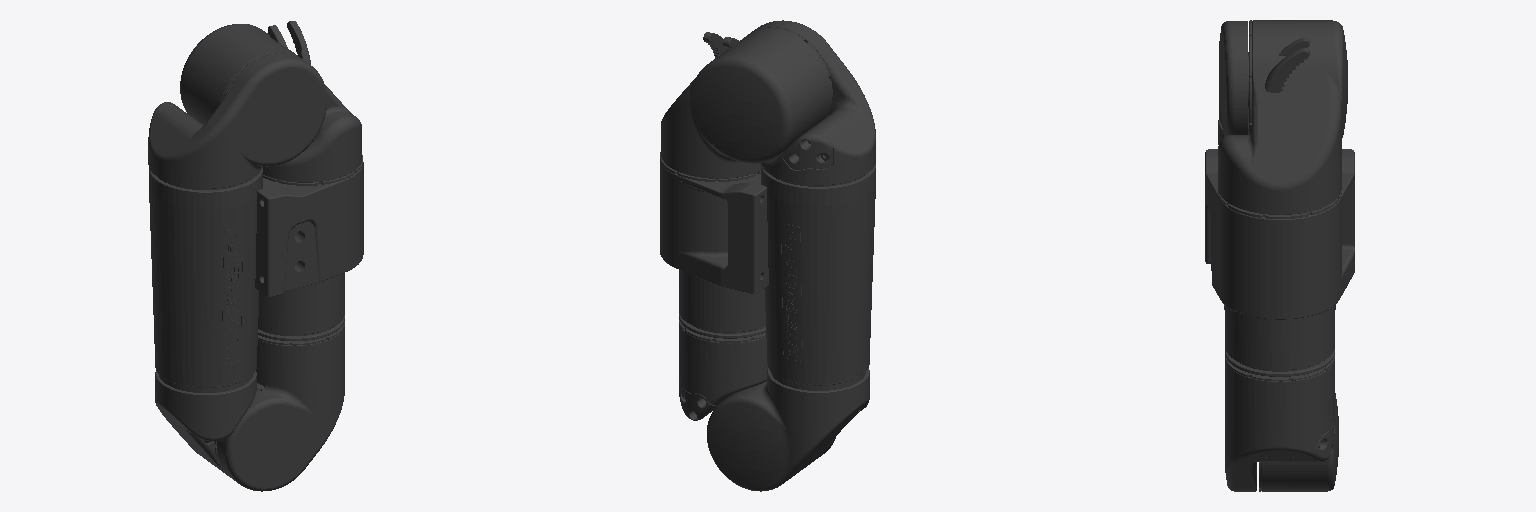
URDF robot description (bravo_5_example):
<?xml version="1.0" ?>
<!-- =================================================================================== -->
<!-- |    This document was autogenerated by xacro from bravo_5_example.urdf.xacro     | -->
<!-- |    EDITING THIS FILE BY HAND IS NOT RECOMMENDED                                 | -->
<!-- =================================================================================== -->
<robot name="bravo_5_example">
  <link name="base_link"/>
  <joint name="bravo_joint" type="fixed">
    <origin rpy="0 0 0" xyz="0 0 0"/>
    <parent link="base_link"/>
    <child link="bravo_base_link"/>
    <origin rpy="0 0 0" xyz="0 0 0"/>
  </joint>
  <material name="bravo_black">
    <color rgba="0.3 0.3 0.3 1"/>
  </material>
  <link name="bravo_base_link">
    <visual>
      <geometry>
        <mesh filename="package://bpl_bravo_description_mk2/meshes/1019 A.stl"/>
      </geometry>
      <material name="bravo_black"/>
    </visual>
    <collision>
      <geometry>
        <box size="0.0625 0.1112 0.088"/>
      </geometry>
      <origin rpy="0 0 0" xyz="0.03625 00 0.044"/>
    </collision>
    <collision>
      <geometry>
        <box size="0.050 0.080 0.060"/>
      </geometry>
      <origin rpy="0 0 0" xyz="0.025 -0.04556 0.03"/>
    </collision>
    <collision>
      <geometry>
        <cylinder length="0.0851" radius="0.046"/>
      </geometry>
      <origin rpy="0 0 0" xyz="0.0675 0 0.04255"/>
    </collision>
  </link>
  <joint name="bravo_axis_e" type="continuous">
    <parent link="bravo_base_link"/>
    <origin rpy="0 0 3.14159" xyz="0.0665 0 0.08"/>
    <axis xyz="0 0 -1"/>
    <child link="bravo_1019_end_link"/>
    <!-- <limit effort="0" velocity="0" lower="0.0" upper="6.3" /> -->
  </joint>
  <link name="bravo_1019_end_link">
    <visual>
      <geometry>
        <mesh filename="package://bpl_bravo_description_mk2/meshes/1019 B.stl"/>
      </geometry>
      <origin rpy="0 0 3.14159" xyz="0 0 0"/>
      <material name="bravo_black"/>
    </visual>
  </link>
  <joint name="bravo_d_base_joint" type="fixed">
    <parent link="bravo_1019_end_link"/>
    <origin rpy="0 0 0" xyz="0 0 0.0058"/>
    <child link="bravo_1013_base_link"/>
  </joint>
  <link name="bravo_1013_base_link">
    <visual>
      <geometry>
        <mesh filename="package://bpl_bravo_description_mk2/meshes/1013 A.stl"/>
      </geometry>
      <origin rpy="0 0 3.14159" xyz="0.0 00 0.0"/>
      <material name="bravo_black"/>
    </visual>
    <collision>
      <geometry>
        <cylinder length="0.0667" radius="0.046"/>
      </geometry>
      <origin rpy="0 0 0" xyz="0.0 0.0 0.03335"/>
    </collision>
    <collision>
      <geometry>
        <cylinder length="0.0738" radius="0.046"/>
      </geometry>
      <origin rpy="1.5707 0 0 " xyz="0.046 0.0149 0.0667"/>
    </collision>
  </link>
  <joint name="bravo_axis_d" type="revolute">
    <parent link="bravo_1013_base_link"/>
    <origin rpy="0 0 0" xyz="0.046 0 0.0667"/>
    <axis xyz="0 -1 0"/>
    <child link="bravo_1013_joint_link"/>
    <limit effort="0" lower="0.0" upper="3.2" velocity="0"/>
  </joint>
  <link name="bravo_1013_joint_link">
    <visual>
      <geometry>
        <mesh filename="package://bpl_bravo_description_mk2/meshes/1013 B.stl"/>
      </geometry>
      <material name="bravo_black"/>
      <origin rpy="0 0 3.14159" xyz="0.0 00 0.0"/>
    </visual>
    <collision>
      <geometry>
        <cylinder length="0.0228" radius="0.046"/>
      </geometry>
      <origin rpy="1.5707 0 0 " xyz="0 -0.0334 0"/>
    </collision>
    <collision>
      <geometry>
        <cylinder length="0.05094" radius="0.046"/>
      </geometry>
      <origin rpy="0 0 0" xyz="0.046 0 -0.02547"/>
    </collision>
  </link>
  <joint name="bravo_1013_end_joint" type="fixed">
    <parent link="bravo_1013_joint_link"/>
    <origin rpy="3.14159 0 3.14159" xyz="0.046 0 -0.05334"/>
    <child link="bravo_1013_end_link"/>
  </joint>
  <link name="bravo_1013_end_link"/>
  <joint name="bravo_c_base_joint" type="fixed">
    <parent link="bravo_1013_end_link"/>
    <origin rpy="0 0 0" xyz="0 0 0.182"/>
    <child link="bravo_1023_0_base_link"/>
  </joint>
  <link name="bravo_1023_0_base_link">
    <visual>
      <geometry>
        <mesh filename="package://bpl_bravo_description_mk2/meshes/RS2-1023-A.stl"/>
      </geometry>
      <material name="bravo_black"/>
    </visual>
    <collision>
      <geometry>
        <cylinder length="0.059" radius="0.0408"/>
      </geometry>
      <origin rpy="0 0 0" xyz="0 00 0.0295"/>
    </collision>
    <collision>
      <geometry>
        <cylinder length="0.0599" radius="0.0408"/>
      </geometry>
      <origin rpy="1.5707 0 0" xyz="0.0408 -0.01435 0.059"/>
    </collision>
  </link>
  <joint name="bravo_axis_c" type="revolute">
    <parent link="bravo_1023_0_base_link"/>
    <origin rpy="0 0 0" xyz="0.0408 0 0.059"/>
    <axis xyz="0 -1 0"/>
    <child link="bravo_1023_0_joint_link"/>
    <limit effort="0" lower="0.0" upper="3.2" velocity="0"/>
  </joint>
  <link name="bravo_1023_0_joint_link">
    <visual>
      <geometry>
        <mesh filename="package://bpl_bravo_description_mk2/meshes/RS2-1023-B.stl"/>
      </geometry>
      <material name="bravo_black"/>
    </visual>
    <collision>
      <geometry>
        <cylinder length="0.02335" radius="0.0408"/>
      </geometry>
      <origin rpy="1.5707 0 0" xyz="0 0.027275 0 "/>
    </collision>
    <collision>
      <geometry>
        <cylinder length="0.0851" radius="0.0408"/>
      </geometry>
      <origin rpy="0 0 0" xyz="0.0408 0 -0.0473"/>
    </collision>
  </link>
  <joint name="bravo_1023_0_end_joint" type="fixed">
    <parent link="bravo_1023_0_joint_link"/>
    <origin rpy="3.14159 0 0" xyz="0.0408 0 -0.08705"/>
    <child link="bravo_1023_0_end_link"/>
  </joint>
  <link name="bravo_1023_0_end_link"/>
  <joint name="bravo_b_base_joint" type="fixed">
    <parent link="bravo_1023_0_end_link"/>
    <origin rpy="0 0 0" xyz="0 0 0"/>
    <child link="bravo_1023_1_base_link"/>
  </joint>
  <link name="bravo_1023_1_base_link">
        </link>
  <joint name="bravo_axis_b" type="continuous">
    <parent link="bravo_1023_1_base_link"/>
    <origin rpy="0 0 3.14159" xyz="0 0 0"/>
    <axis xyz="0 0 -1"/>
    <child link="bravo_1023_1_joint_link"/>
    <!--            <limit effort="0" velocity="0" lower="0.0" upper="0.0" />-->
  </joint>
  <link name="bravo_1023_1_joint_link">
    <visual>
      <geometry>
        <mesh filename="package://bpl_bravo_description_mk2/meshes/RS2-1023-C.stl"/>
      </geometry>
      <material name="bravo_black"/>
    </visual>
    <collision>
      <geometry>
        <cylinder length="0.003" radius="0.0408"/>
      </geometry>
      <origin rpy="0 0 0" xyz="0 0 0.0"/>
    </collision>
  </link>
  <joint name="bravo_1023_1_end_joint" type="fixed">
    <parent link="bravo_1023_1_joint_link"/>
    <origin rpy="0 0 0" xyz="0 0 0.0054"/>
    <child link="bravo_1023_1_end_link"/>
  </joint>
  <link name="bravo_1023_1_end_link"/>
  <joint name="bravo_a_base_joint" type="fixed">
    <parent link="bravo_1023_1_end_link"/>
    <origin rpy="0 0 0" xyz="0 0 0"/>
    <child link="bravo_1038_base_link"/>
  </joint>
  <link name="bravo_1038_base_link">
    <visual>
      <geometry>
        <mesh filename="package://bpl_bravo_description_mk2/meshes/1038.stl"/>
      </geometry>
      <material name="bravo_black"/>
    </visual>
    <collision>
      <geometry>
        <cylinder length="0.12535" radius="0.0408"/>
      </geometry>
      <origin rpy="0 0 0" xyz="0 0 0.06"/>
    </collision>
  </link>
  <joint name="bravo_1038_end_joint" type="fixed">
    <parent link="bravo_1038_base_link"/>
    <origin rpy="0 -1.5707 0" xyz="0 0 0.12535"/>
    <child link="bravo_1038_end_link"/>
  </joint>
  <link name="bravo_1038_end_link"/>
  <joint name="bravo_jaws_joint" type="fixed">
    <origin rpy="0 0 0" xyz=" 0 0 0.0"/>
    <parent link="bravo_1038_end_link"/>
    <child link="bravo_jaws_base_link"/>
  </joint>
  <link name="bravo_jaws_base_link">
    <!--        <visual>-->
    <!--            <geometry>-->
    <!--                <mesh filename="package://bpl_bravo_description/meshes/end_effectors/RS2-257.stl"/>-->
    <!--            </geometry>-->
    <!--            <material name="bravo_jaws_black"/>-->
    <!--            </visual>-->
  </link>
  <link name="bravo_push_rod"/>
  <joint name="bravo_axis_a" type="prismatic">
    <origin rpy="0 0 0" xyz="0 0 0.009"/>
    <parent link="bravo_jaws_base_link"/>
    <child link="bravo_push_rod"/>
    <axis xyz="0 0 1"/>
    <limit effort="10" lower="0" upper="0.01" velocity="10"/>
  </joint>
  <link name="bravo_1030_base_link">
    <visual>
      <geometry>
        <mesh filename="package://bpl_bravo_description_mk2/meshes/1030.stl"/>
      </geometry>
      <material name="bravo_black"/>
    </visual>
    <collision>
      <geometry>
        <cylinder length="0.03033333" radius="0.046"/>
      </geometry>
      <origin rpy="0 0 0" xyz="0 0 0.01516666"/>
    </collision>
    <collision>
      <geometry>
        <cylinder length="0.03033333" radius="0.045"/>
      </geometry>
      <origin rpy="0 0 0" xyz="0 0 0.0455"/>
    </collision>
    <collision>
      <geometry>
        <cylinder length="0.03033333" radius="0.044"/>
      </geometry>
      <origin rpy="0 0 0" xyz="0 0 0.075833333"/>
    </collision>
    <collision>
      <geometry>
        <cylinder length="0.03033333" radius="0.043"/>
      </geometry>
      <origin rpy="0 0 0" xyz="0 0 0.1061666666"/>
    </collision>
    <collision>
      <geometry>
        <cylinder length="0.03033333" radius="0.042"/>
      </geometry>
      <origin rpy="0 0 0" xyz="0 0 0.1365"/>
    </collision>
    <collision>
      <geometry>
        <cylinder length="0.03033333" radius="0.041"/>
      </geometry>
      <origin rpy="0 0 0" xyz="0 0 0.1668333"/>
    </collision>
  </link>
  <joint name="bravo_1030_base_joint" type="fixed">
    <parent link="bravo_1013_end_link"/>
    <child link="bravo_1030_base_link"/>
    <origin rpy="0 0 0" xyz="0 0 0"/>
  </joint>
  <material name="bravo_finger_jaws_black">
    <color rgba="0.3 0.3 0.3 1"/>
  </material>
  <joint name="bravo_finger_jaws_joint" type="fixed">
    <origin rpy="0 0 0" xyz="0 0 0"/>
    <parent link="bravo_jaws_base_link"/>
    <child link="bravo_finger_jaws_base_link"/>
    <origin rpy="0 0 0" xyz="0 0 0"/>
  </joint>
  <link name="bravo_finger_jaws_base_link">
    <visual>
      <geometry>
        <mesh filename="package://bpl_bravo_description_mk2/meshes/RS2-257.stl"/>
      </geometry>
      <material name="bravo_finger_jaws_black"/>
    </visual>
    <collision>
      <geometry>
        <cylinder length="0.037" radius="0.0355"/>
      </geometry>
      <origin rpy="0 1.5707 0" xyz="0.0123 0 0"/>
    </collision>
  </link>
  <link name="bravo_finger_jaws_rs2_300_link">
    <visual>
      <geometry>
        <mesh filename="package://bpl_bravo_description_mk2/meshes/RS2-300.stl"/>
      </geometry>
      <material name="bravo_finger_jaws_black"/>
    </visual>
    <collision>
      <geometry>
        <box size="0.124 0.035 0.042"/>
      </geometry>
      <origin rpy="0 0 2.78554548618295" xyz="0.0595 -0.0267 0"/>
    </collision>
  </link>
  <joint name="bravo_finger_jaws_rs2_300_joint" type="revolute">
    <origin rpy="0 0 0" xyz="0.0241 0.0268 0"/>
    <axis xyz="0 0 1"/>
    <parent link="bravo_finger_jaws_base_link"/>
    <child link="bravo_finger_jaws_rs2_300_link"/>
    <limit effort="10" lower="0" upper="1.0" velocity="10"/>
    <mimic joint="bravo_axis_a" multiplier="54" offset="0"/>
  </joint>
  <link name="bravo_finger_jaws_rs2_301_link">
    <visual>
      <geometry>
        <mesh filename="package://bpl_bravo_description_mk2/meshes/RS2-301.stl"/>
      </geometry>
      <material name="bravo_finger_jaws_black"/>
    </visual>
    <collision>
      <geometry>
        <box size="0.124 0.035 0.042"/>
      </geometry>
      <origin rpy="0 0 -2.78554548618295" xyz="0.0595 0.0267 0"/>
    </collision>
  </link>
  <joint name="bravo_finger_jaws_rs2_301_joint" type="revolute">
    <origin rpy="0 0 0" xyz="0.0241 -0.0268 0"/>
    <axis xyz="0 0 -1"/>
    <parent link="bravo_finger_jaws_base_link"/>
    <child link="bravo_finger_jaws_rs2_301_link"/>
    <limit effort="10" lower="0" upper="1.0" velocity="10"/>
    <mimic joint="bravo_finger_jaws_rs2_300_joint" multiplier="1" offset="0"/>
  </joint>
</robot>

--- What the picture shows (computed from the rendered views, not written in the file) ---
The picture shows the robot from 3 angles, left to right: view 1: azimuth 30°, elevation 25°; view 2: azimuth 150°, elevation 25°; view 3: azimuth 270°, elevation 25°; orthographic projection.
Model bravo_5_example with 20 links and 19 joints (4 revolute, 2 continuous, 1 prismatic, 12 fixed), rooted at base_link, posed every joint at zero.
Visible links, largest first — view 1: bravo_1030_base_link, bravo_1013_joint_link, bravo_1023_0_joint_link, bravo_base_link, bravo_1013_base_link, bravo_1023_0_base_link, bravo_1038_base_link, bravo_finger_jaws_rs2_300_link, bravo_1023_1_joint_link; view 2: bravo_1030_base_link, bravo_1013_base_link, bravo_1023_0_base_link, bravo_base_link, bravo_1013_joint_link, bravo_1023_0_joint_link, bravo_1038_base_link, bravo_1023_1_joint_link; view 3: bravo_1013_base_link, bravo_base_link, bravo_1023_0_joint_link, bravo_1038_base_link, bravo_1013_joint_link, bravo_1023_0_base_link, bravo_finger_jaws_rs2_300_link, bravo_1023_1_joint_link.
Link boxes in pixels (box(x1,y1,x2,y2)): bravo_1030_base_link: box(149, 167, 262, 392); bravo_1013_joint_link: box(148, 53, 326, 189); bravo_1023_0_joint_link: box(217, 322, 344, 491); bravo_base_link: box(255, 155, 363, 296); bravo_1013_base_link: box(180, 24, 361, 182); bravo_1023_0_base_link: box(155, 371, 263, 475); bravo_1038_base_link: box(258, 273, 344, 334); bravo_finger_jaws_rs2_300_link: box(268, 21, 310, 64); bravo_1023_1_joint_link: box(258, 315, 344, 340); bravo_1030_base_link: box(761, 164, 875, 390); bravo_1013_base_link: box(661, 27, 832, 178); bravo_1023_0_base_link: box(707, 368, 869, 491); bravo_base_link: box(660, 152, 768, 293); bravo_1013_joint_link: box(752, 20, 875, 186); bravo_1023_0_joint_link: box(679, 320, 835, 458); bravo_1038_base_link: box(679, 270, 765, 332); bravo_1023_1_joint_link: box(679, 314, 765, 338); bravo_1013_base_link: box(1218, 20, 1347, 214); bravo_base_link: box(1205, 149, 1354, 319); bravo_1023_0_joint_link: box(1225, 355, 1334, 491); bravo_1038_base_link: box(1225, 306, 1334, 369); bravo_1013_joint_link: box(1219, 21, 1248, 136); bravo_1023_0_base_link: box(1259, 393, 1338, 491); bravo_finger_jaws_rs2_300_link: box(1248, 37, 1309, 134); bravo_1023_1_joint_link: box(1225, 349, 1334, 376).
Size in the robot's own frame: 0.185 by 0.1112 by 0.3833 metres.
11 mesh visuals loaded from 12 distinct referenced files (11 binary STL); not drawn: 1 (reference not matched to a file when rendering).